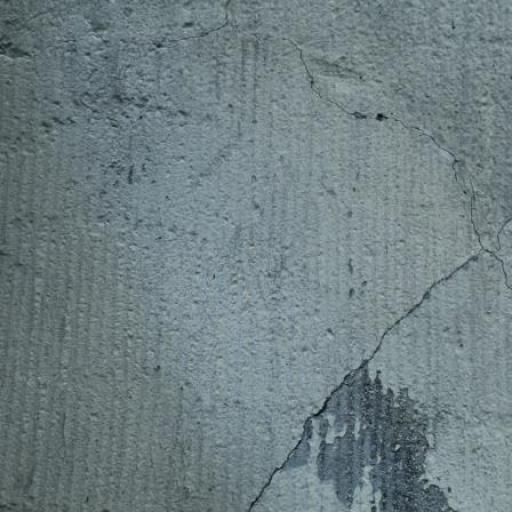spalling: (242, 247, 481, 510)
